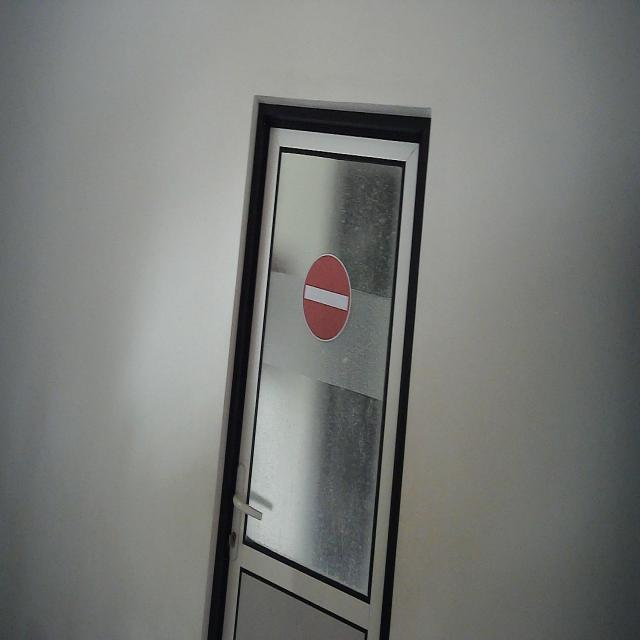no_entry: (301, 250, 354, 346)
